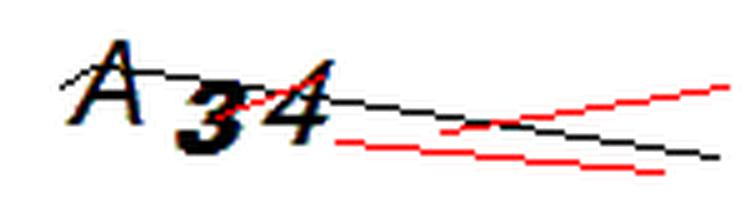3: (168, 67, 259, 170)
4: (256, 48, 351, 156)
A: (61, 32, 154, 137)
